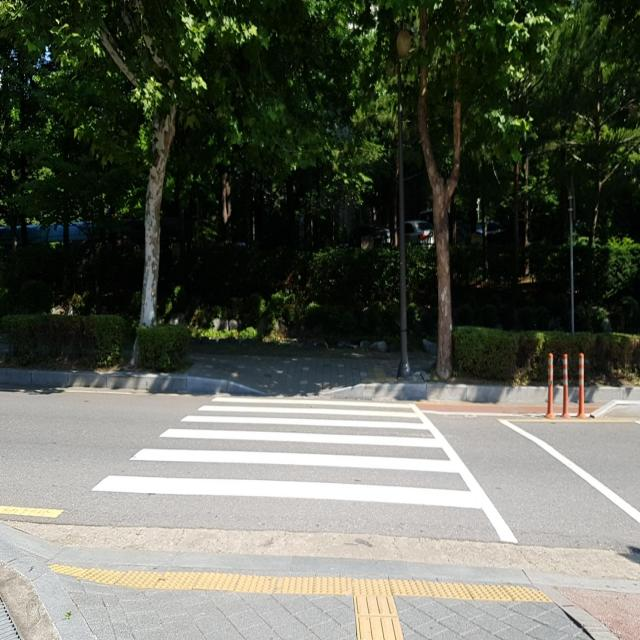횡단보도: (92, 394, 486, 509)
